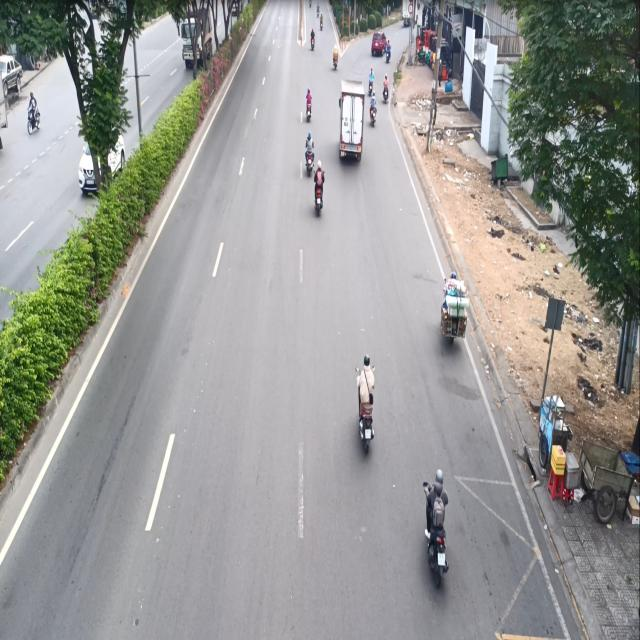motor: (420, 464, 455, 590), (350, 351, 378, 449), (437, 262, 463, 350), (314, 160, 327, 218), (303, 81, 314, 124), (305, 130, 313, 176)
truck: (338, 76, 366, 165)
